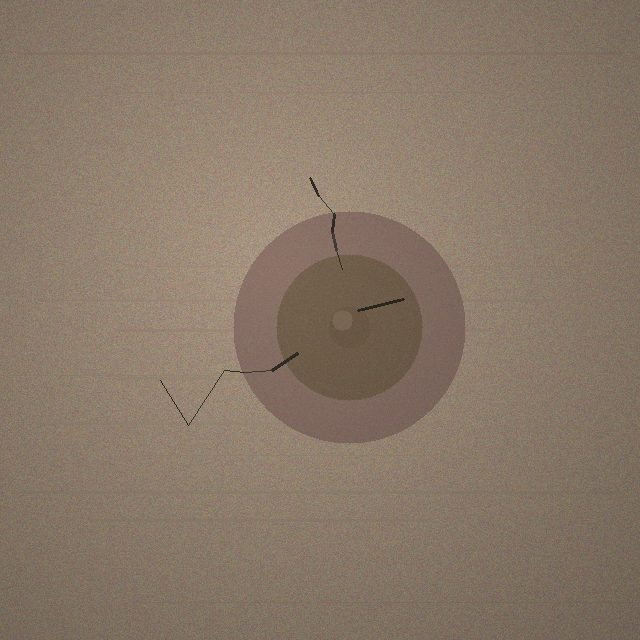crack: (233, 211, 465, 443)
